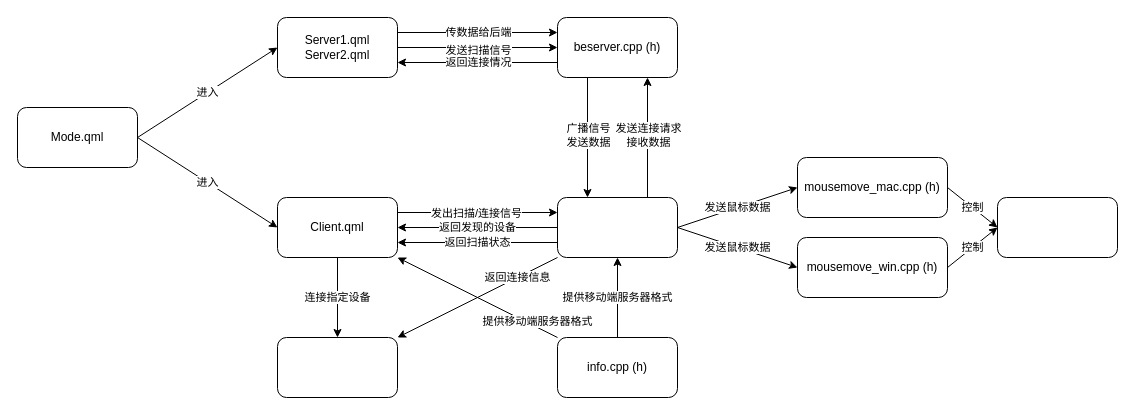
Image size: 1135x415. Some labels were removed from this diagram. Each missing label, with the centre of its shape:
Connect.qml: the point at 337,367
getserver.cpp (h): the point at 617,227
操作系统: the point at 1057,227
